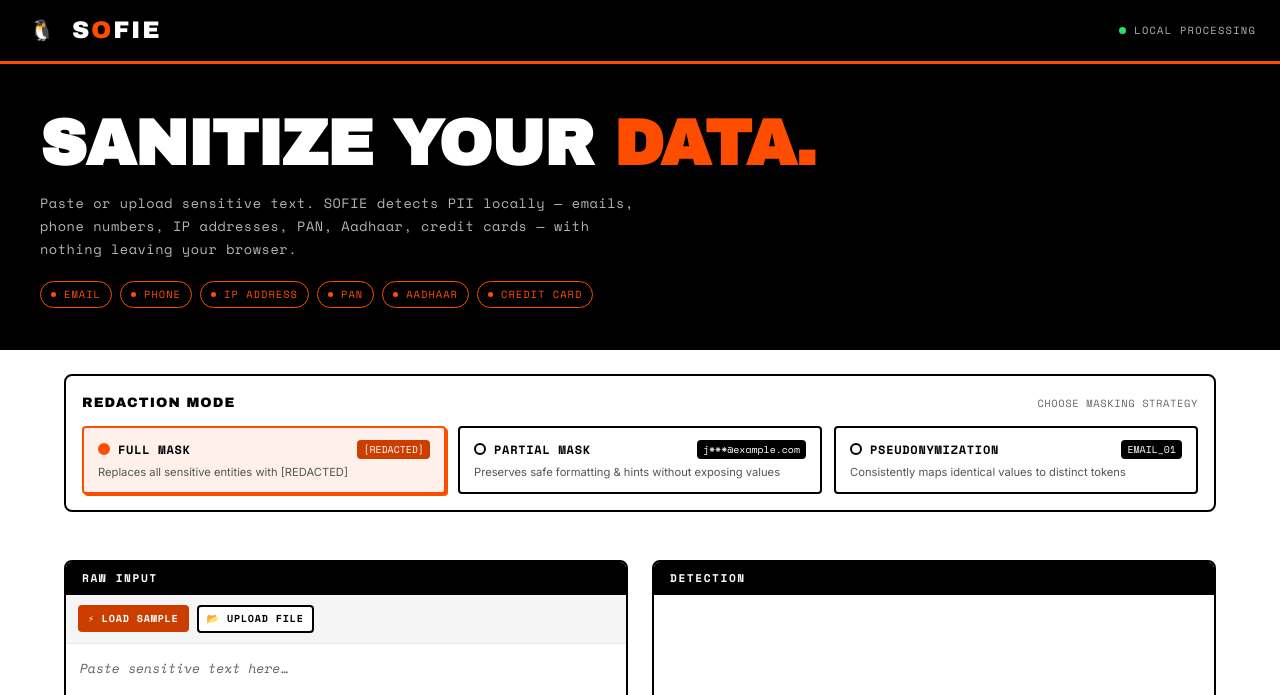
SOFIE Phase 2 UI › 16. Loading sample displays Side-by-Side Diff and Audit Summary
Click the button "⚡ LOAD SAMPLE". click: x=133, y=619
box: x1=78 y1=605 x2=189 y2=632
Wait 400 ms
(page scrolled)
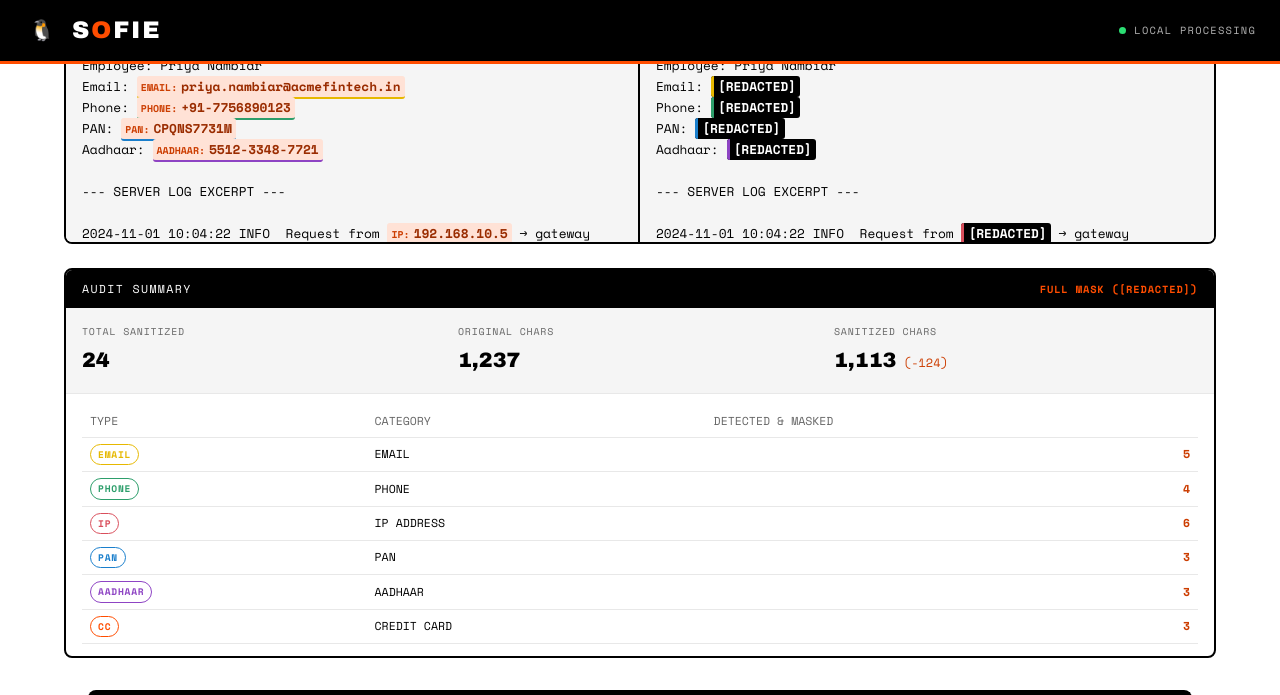
Now the element with test id "audit-summary" is shown, box x1=64 y1=268 x2=1216 y2=658
Now the text "24" is shown, box x1=82 y1=349 x2=110 y2=371
